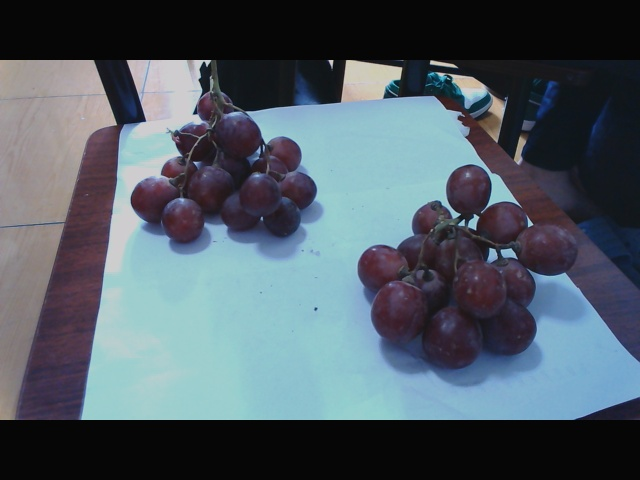grape: (346, 165, 587, 372), (126, 80, 322, 252)
